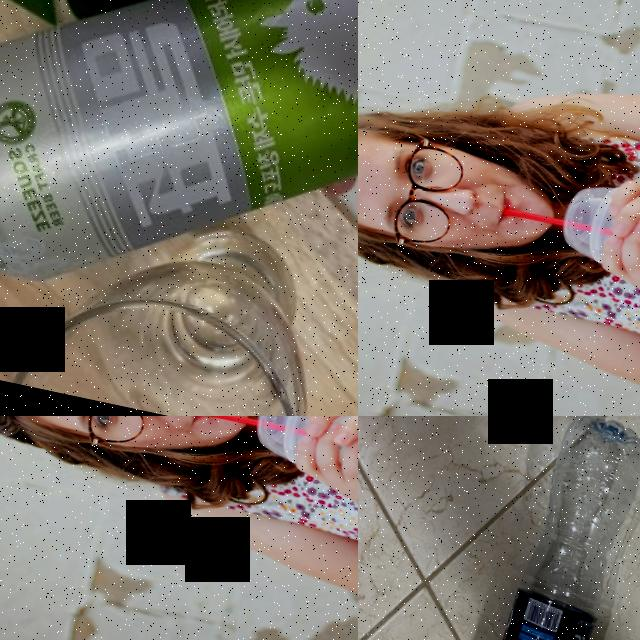bottle: (455, 416, 640, 640)
can: (0, 0, 358, 388)
cup: (554, 177, 640, 297), (248, 416, 358, 497)
